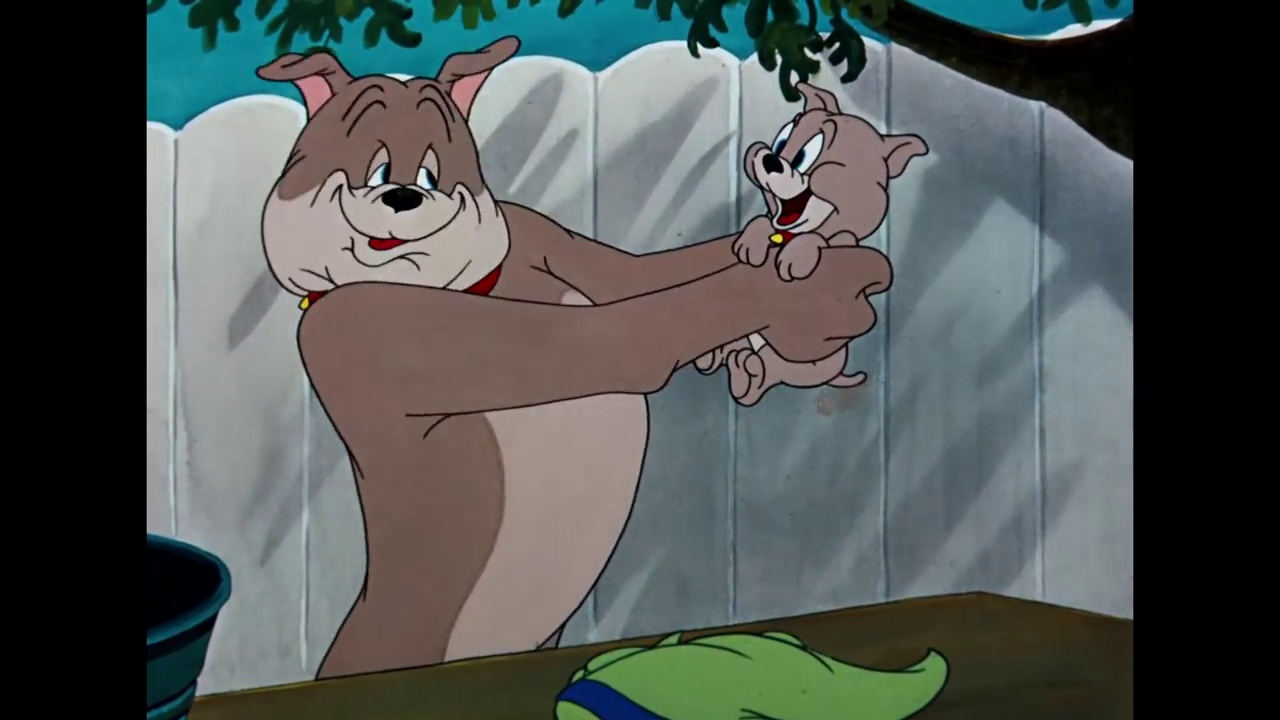spike: (251, 32, 526, 303)
